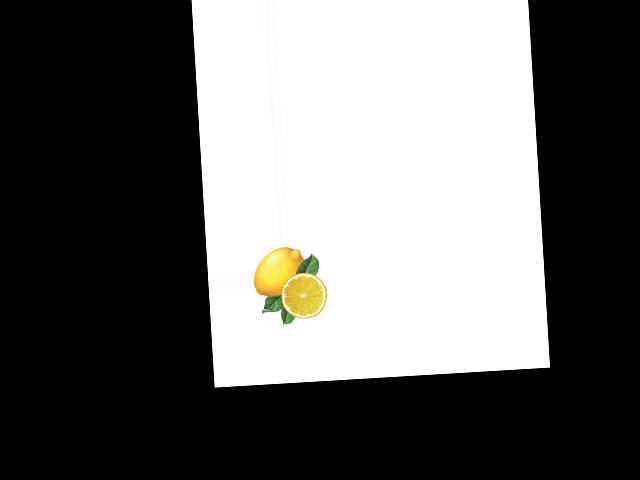lemon: (252, 247, 307, 299)
